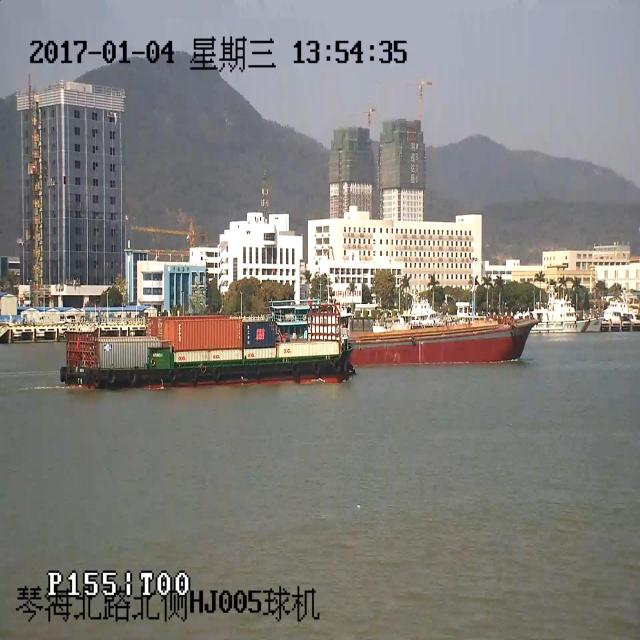cargoship: (66, 301, 349, 382), (356, 286, 530, 372)
passenger ship: (539, 282, 591, 339)
